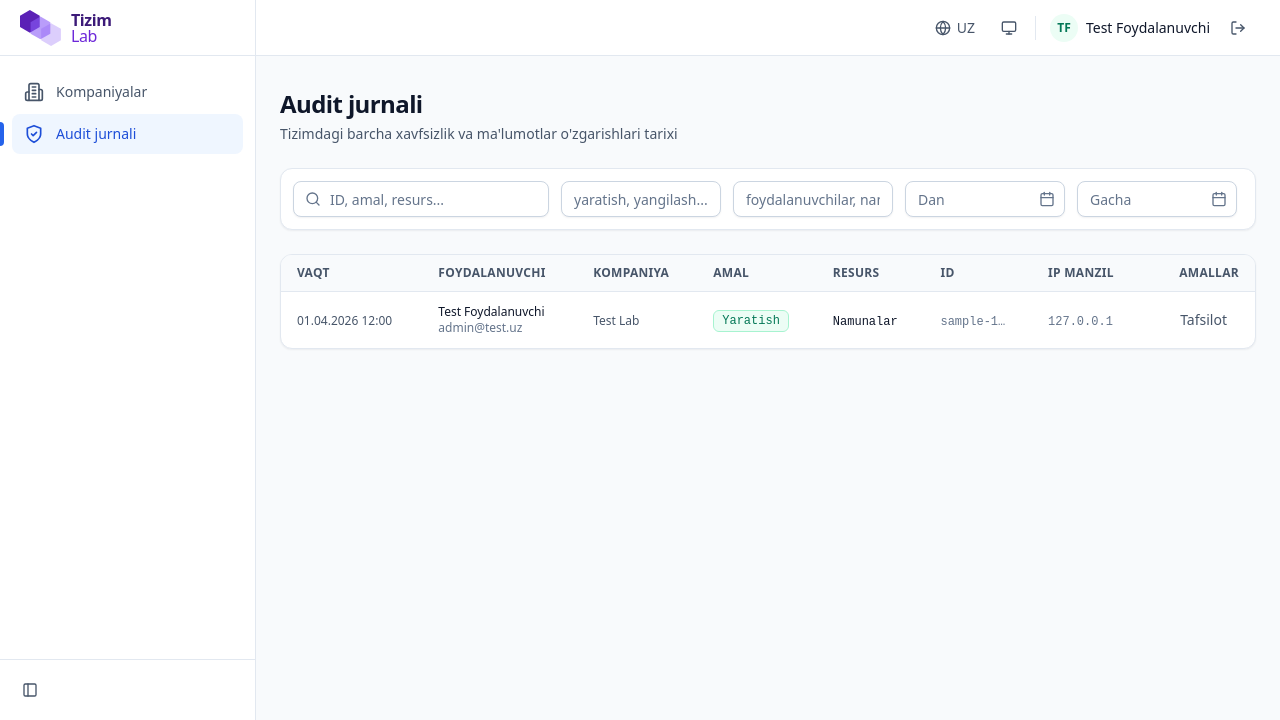
Test: Audit and Activity Logs UI (P10, D-147) › /logs (AuditLogPage) › super_admin audit jurnali sahifasini ko‘radi va loglar ro‘yxati chiqadi
Expected: the text "Yaratish" is shown, [713,310,789,332]
Note: Tafsilot tugmasi bosilganda modal ochiladi
Click the button "Tafsilot". click: (1204, 320)
box: [1168,304,1239,336]
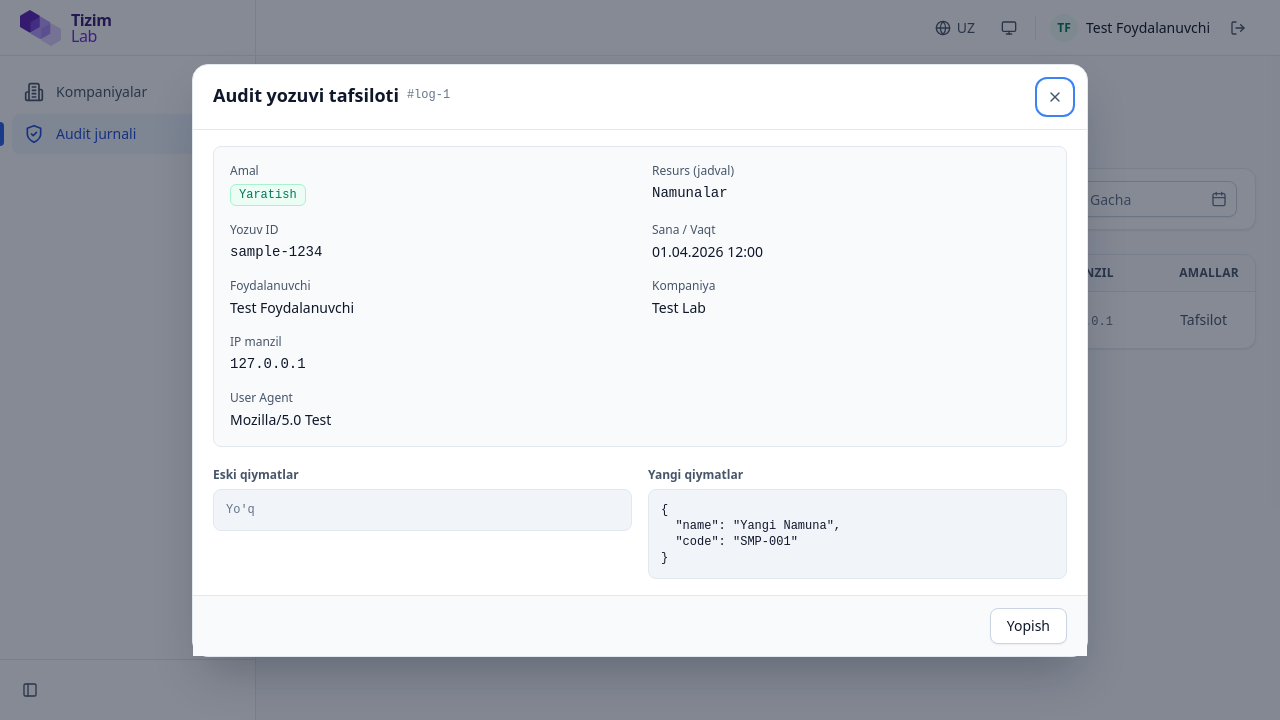
Now the text "Audit yozuvi tafsiloti" is shown, box [213,80,399,108]
Now the text "{ \"name\": \"Yangi Namuna\", \"code\": \"SMP-001\" }" is shown, box [661,502,841,564]
